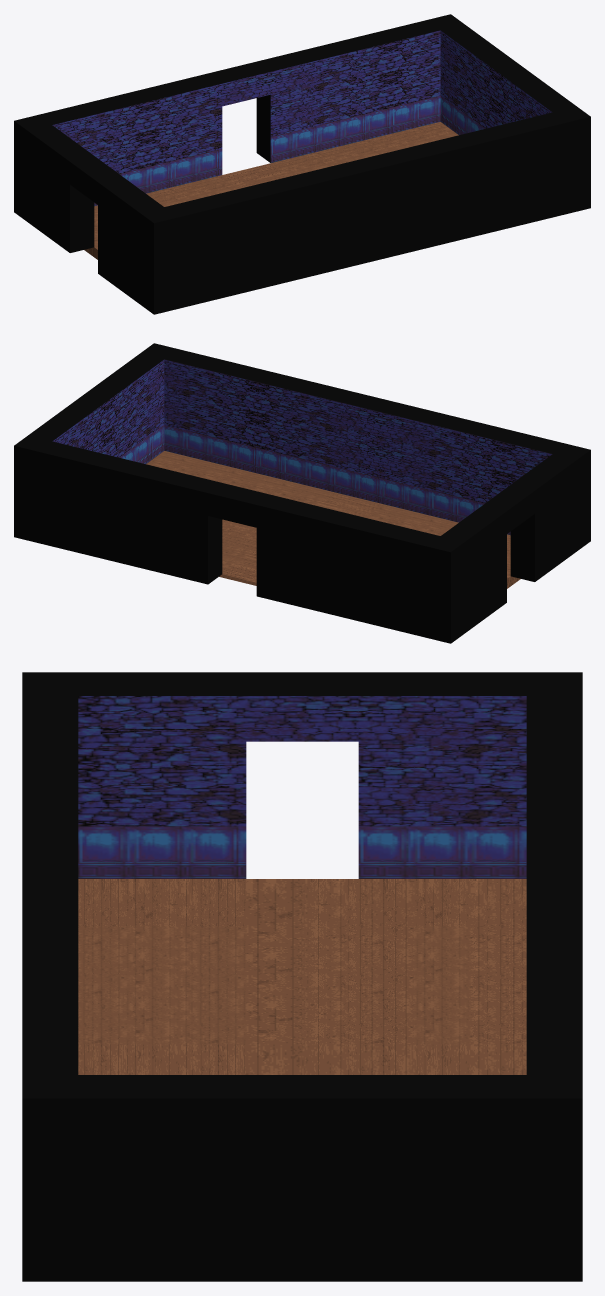
Rendered from ROOM_1.fbx.
3 views of the same model, one above another, from view 1: azimuth 30°, elevation 25°; view 2: azimuth 150°, elevation 25°; view 3: azimuth 270°, elevation 25° (orthographic). The views are drawn at different scales.
Parts seen in each view (by area): view 1: WALL_01, FLOOR_01; view 2: WALL_01, FLOOR_01; view 3: WALL_01, FLOOR_01.
Part boxes in pixels (x1,y1,x2,y2): WALL_01: (14,14,590,314); FLOOR_01: (84,122,458,259); WALL_01: (14,343,590,643); FLOOR_01: (146,451,520,588); WALL_01: (22,672,582,1281); FLOOR_01: (78,879,526,1074).
Size of the model in its own units: 4500 by 1000 by 2500.
